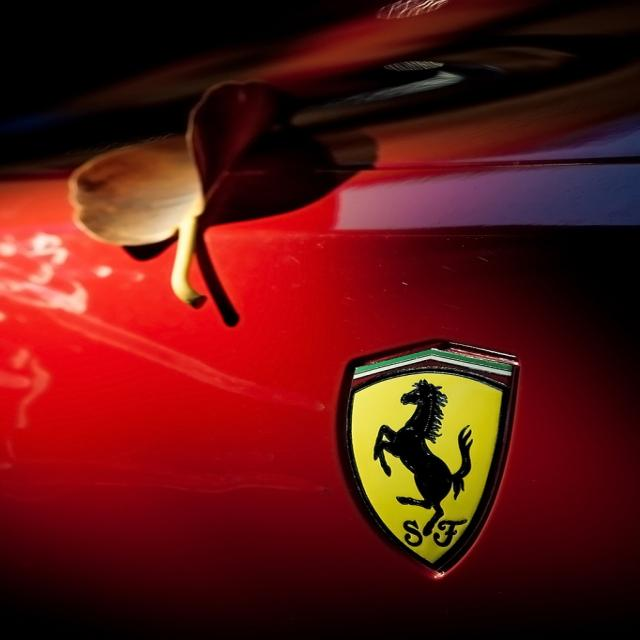ferrari: (345, 346, 518, 568)
